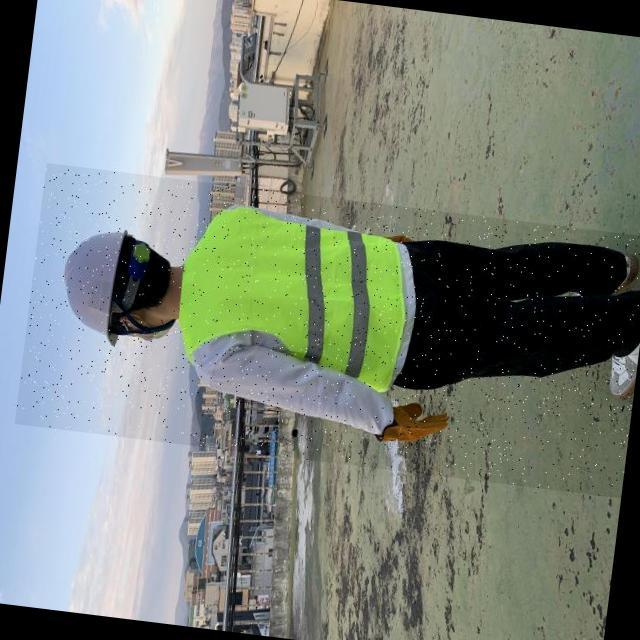Gloves: (376, 394, 457, 456)
Helmet: (48, 220, 136, 349)
Person: (85, 223, 617, 370)
Safety Boot: (597, 294, 640, 402), (607, 248, 637, 292)
Safety Vest: (172, 199, 419, 392)
